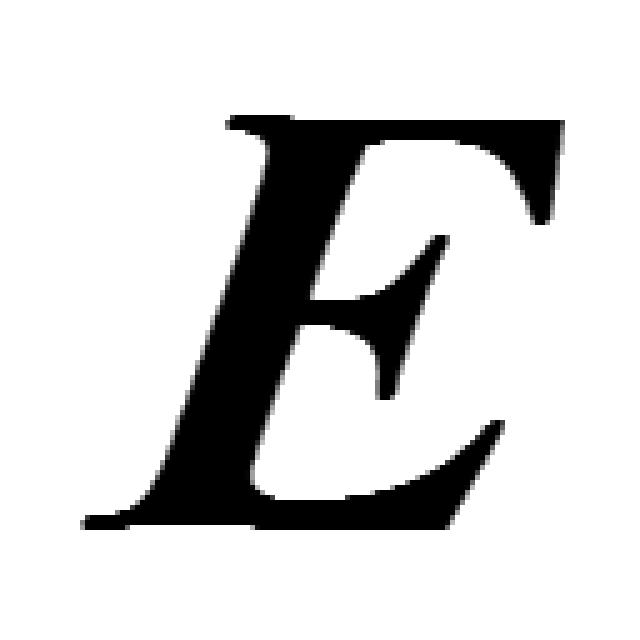E: (80, 115, 565, 530)
